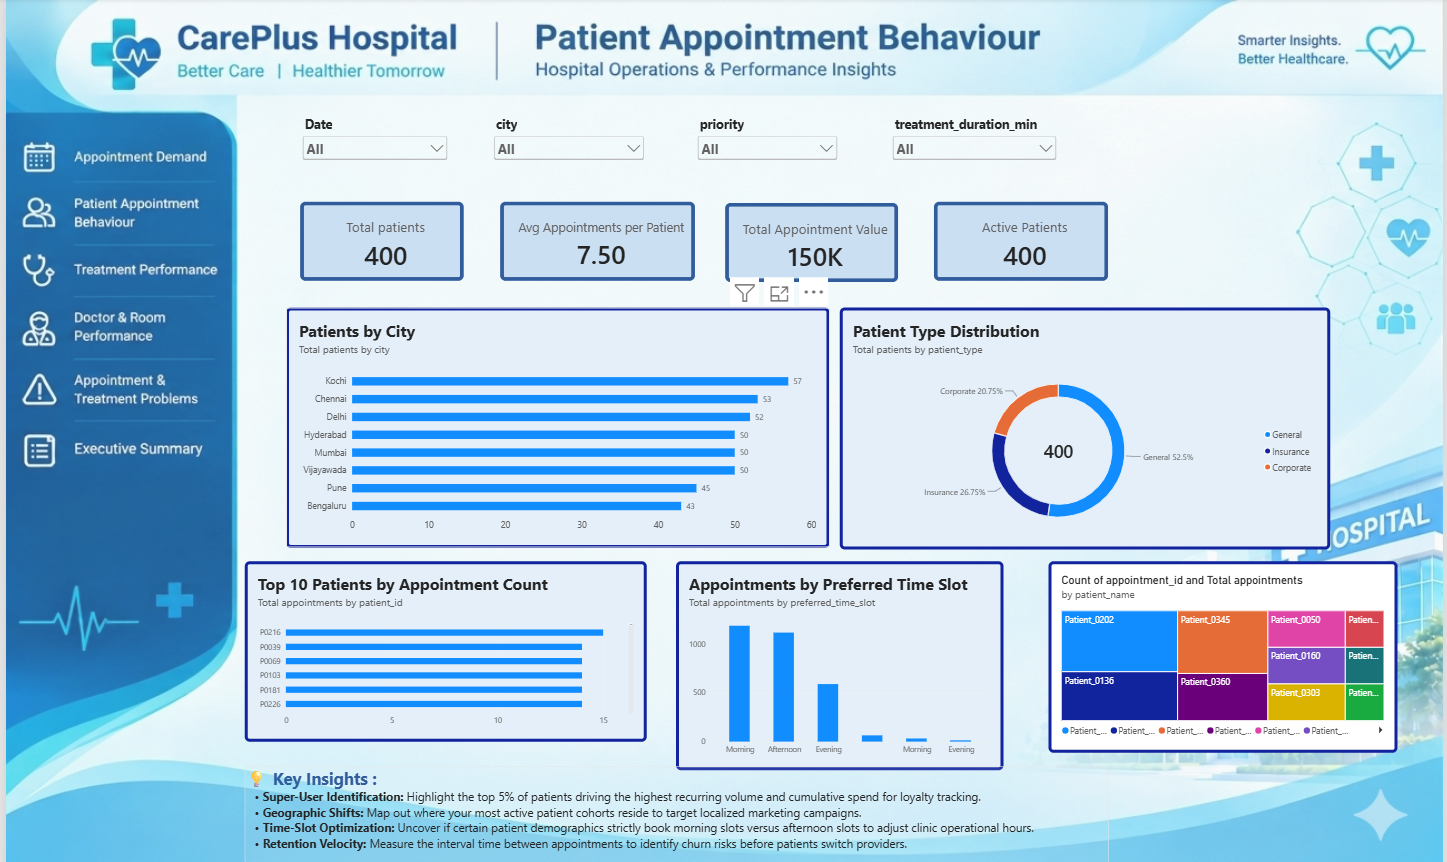

This screenshot's page, from the dashboard's own definition file:
{"tool":"powerbi","page":{"name":"Patient Appointment Behaviour","canvas":[2300,1400],"ordinal":1},"visuals":[{"type":"cardVisual","fields":{"Data":["_KPI Measures.Total patients"]},"box":[469.6,321.7,263,128.3],"z":0},{"type":"cardVisual","fields":{"Data":["_KPI Measures.Avg Appointments per Patient"]},"box":[789.1,321.7,313,128.3],"z":1},{"type":"cardVisual","fields":{"Data":["_KPI Measures.Total Appointment Value"]},"box":[1150,323.9,278.3,128.3],"z":2},{"type":"cardVisual","fields":{"Data":["_KPI Measures.Active Patients"]},"box":[1484.8,321.7,280.4,128.3],"z":3},{"type":"clusteredBarChart","title":"Patients by City","fields":{"Category":["patients.city"],"Y":["_KPI Measures.Total patients"]},"box":[447.8,491.3,869.6,384.8],"z":4},{"type":"donutChart","title":"Patient Type Distribution","fields":{"Category":["patients.patient_type"],"Y":["_KPI Measures.Total patients"]},"box":[1334.8,491.3,784.8,387],"z":5},{"type":"clusteredBarChart","title":"Top 10 Patients by Appointment Count","fields":{"Category":["appointments.patient_id"],"Y":["_KPI Measures.Total appointments"]},"box":[382.6,897.8,643.5,289.1],"z":6},{"type":"columnChart","title":"Appointments by Preferred Time Slot","fields":{"Category":["patients.preferred_time_slot"],"Y":["_KPI Measures.Total appointments"]},"box":[1071.7,897.8,523.9,334.8],"z":7},{"type":"slicer","fields":{"Values":["date_table.Date"]},"box":[469.6,184.8,241.3,115.2],"z":8},{"type":"slicer","fields":{"Values":["patients.city"]},"box":[776.1,184.8,250,115.2],"z":9},{"type":"slicer","fields":{"Values":["treatments.treatment_duration_min"]},"box":[1413,184.8,271.7,115.2],"z":10},{"type":"slicer","fields":{"Values":["appointments.priority"]},"box":[1102.2,184.8,232.6,115.2],"z":11},{"type":"treemap","fields":{"Group":["patients.patient_name"],"Values":["CountNonNull(appointments.appointment_id)"]},"box":[1668,898,558,306],"z":13},{"type":"textbox","box":[382,1226,1382,158],"z":14}]}

Visuals, with their boxes on the page's 2300x1400 design canvas (x1, y1, x2, y2). These are canvas units, not pixel positions in the 1447x862 screenshot, which may show the page scaled, cropped or inside an application window:
cardVisual - _KPI Measures.Total patients: bbox=[470, 322, 733, 450]
cardVisual - _KPI Measures.Avg Appointments per Patient: bbox=[789, 322, 1102, 450]
cardVisual - _KPI Measures.Total Appointment Value: bbox=[1150, 324, 1428, 452]
cardVisual - _KPI Measures.Active Patients: bbox=[1485, 322, 1765, 450]
"Patients by City" clusteredBarChart: bbox=[448, 491, 1317, 876]
"Patient Type Distribution" donutChart: bbox=[1335, 491, 2120, 878]
"Top 10 Patients by Appointment Count" clusteredBarChart: bbox=[383, 898, 1026, 1187]
"Appointments by Preferred Time Slot" columnChart: bbox=[1072, 898, 1596, 1233]
slicer - date_table.Date: bbox=[470, 185, 711, 300]
slicer - patients.city: bbox=[776, 185, 1026, 300]
slicer - treatments.treatment_duration_min: bbox=[1413, 185, 1685, 300]
slicer - appointments.priority: bbox=[1102, 185, 1335, 300]
treemap - patients.patient_name x CountNonNull(appointments.appointment_id): bbox=[1668, 898, 2226, 1204]
textbox: bbox=[382, 1226, 1764, 1384]
